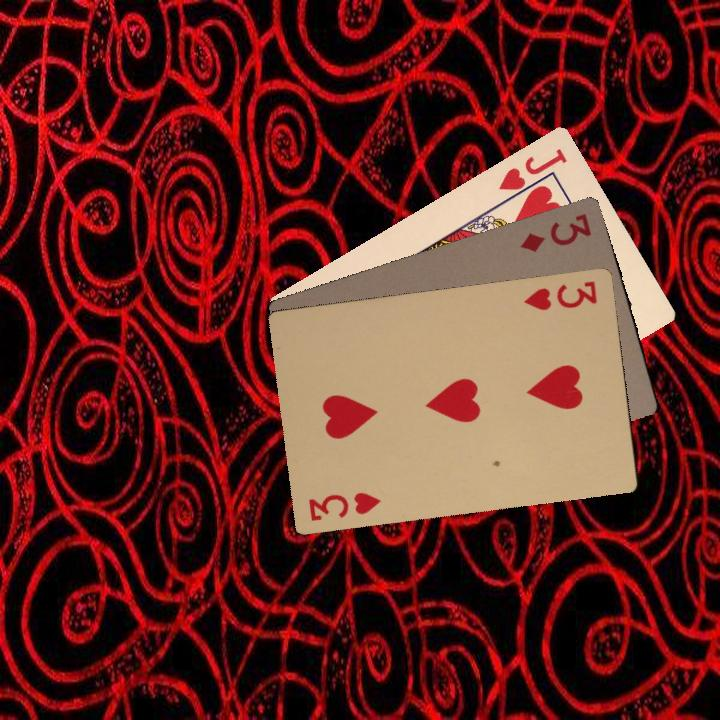3d: (516, 209, 594, 255)
3h: (520, 277, 600, 313), (304, 488, 384, 524)
Jh: (494, 144, 570, 206)
